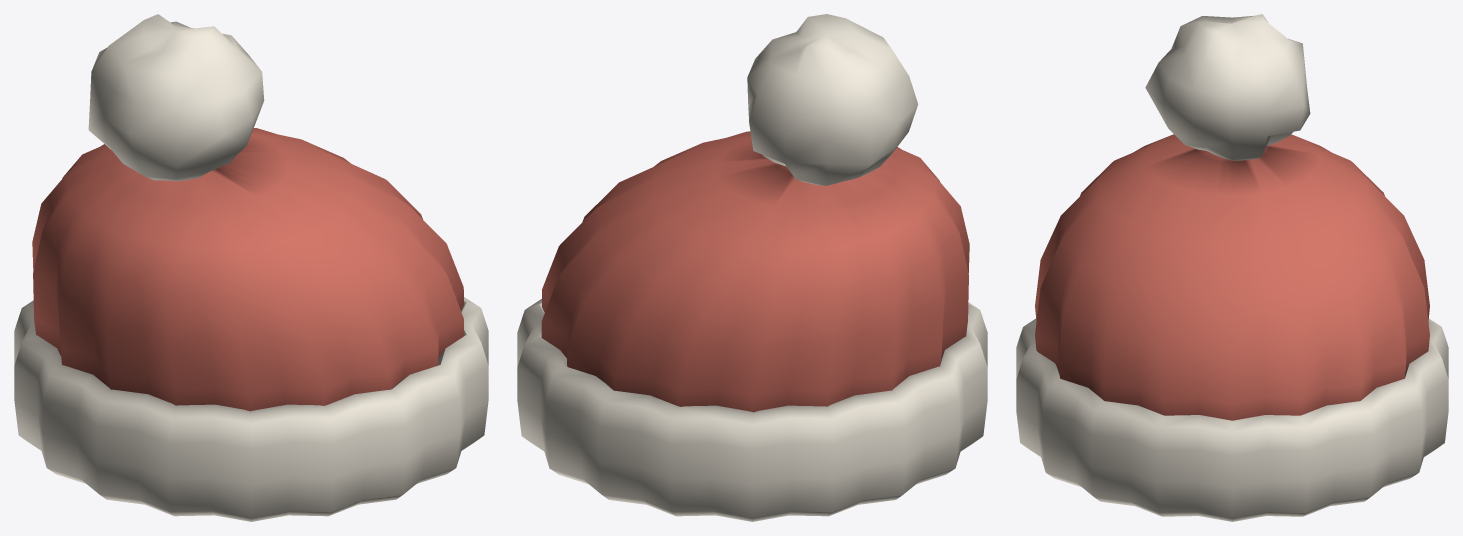
File: wear_beanie.glb
3 views of the same model, side by side, from view 1: azimuth 30°, elevation 25°; view 2: azimuth 150°, elevation 25°; view 3: azimuth 270°, elevation 25° (orthographic). The views are drawn at different scales.
Parts seen in each view (by area): view 1: PART; view 2: PART; view 3: PART.
Part boxes in pixels (bbox=[...]): PART: bbox=[14, 14, 488, 521]; PART: bbox=[517, 14, 987, 521]; PART: bbox=[1016, 14, 1448, 521].
Size of the model in its own units: 0.1998 by 0.192 by 0.1968.
